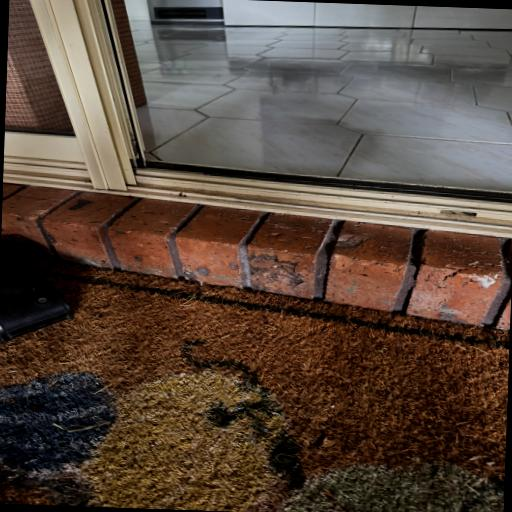step: (107, 168, 512, 330)
